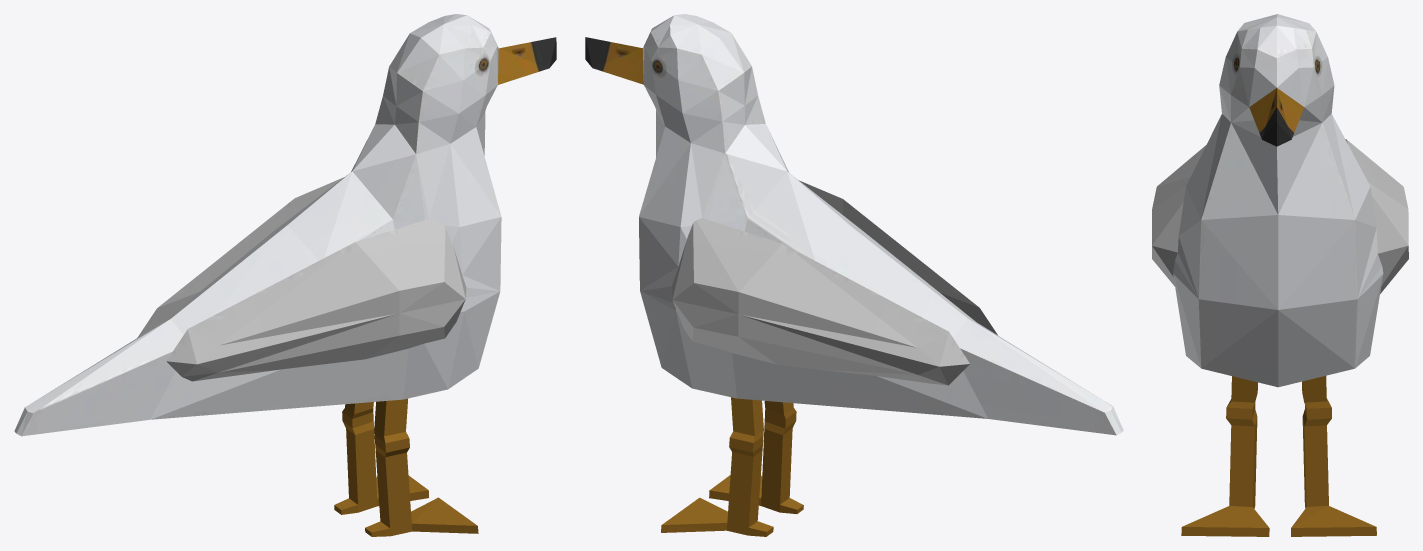
Rendered from Seagull.glb.
The picture shows the model from 3 angles, left to right: view 1: azimuth 30°, elevation 25°; view 2: azimuth 150°, elevation 25°; view 3: azimuth 270°, elevation 25°; orthographic projection. The views are drawn at different scales.
Visible parts, largest first — view 1: Gull; view 2: Gull; view 3: Gull.
Part boxes in pixels (bbox=[...]): Gull: bbox=[14, 14, 556, 536]; Gull: bbox=[585, 14, 1123, 536]; Gull: bbox=[1152, 14, 1408, 536].
Size of the model in its own units: 65.38 by 55.98 by 24.5.
Materials: 1 (1 with a texture image).
